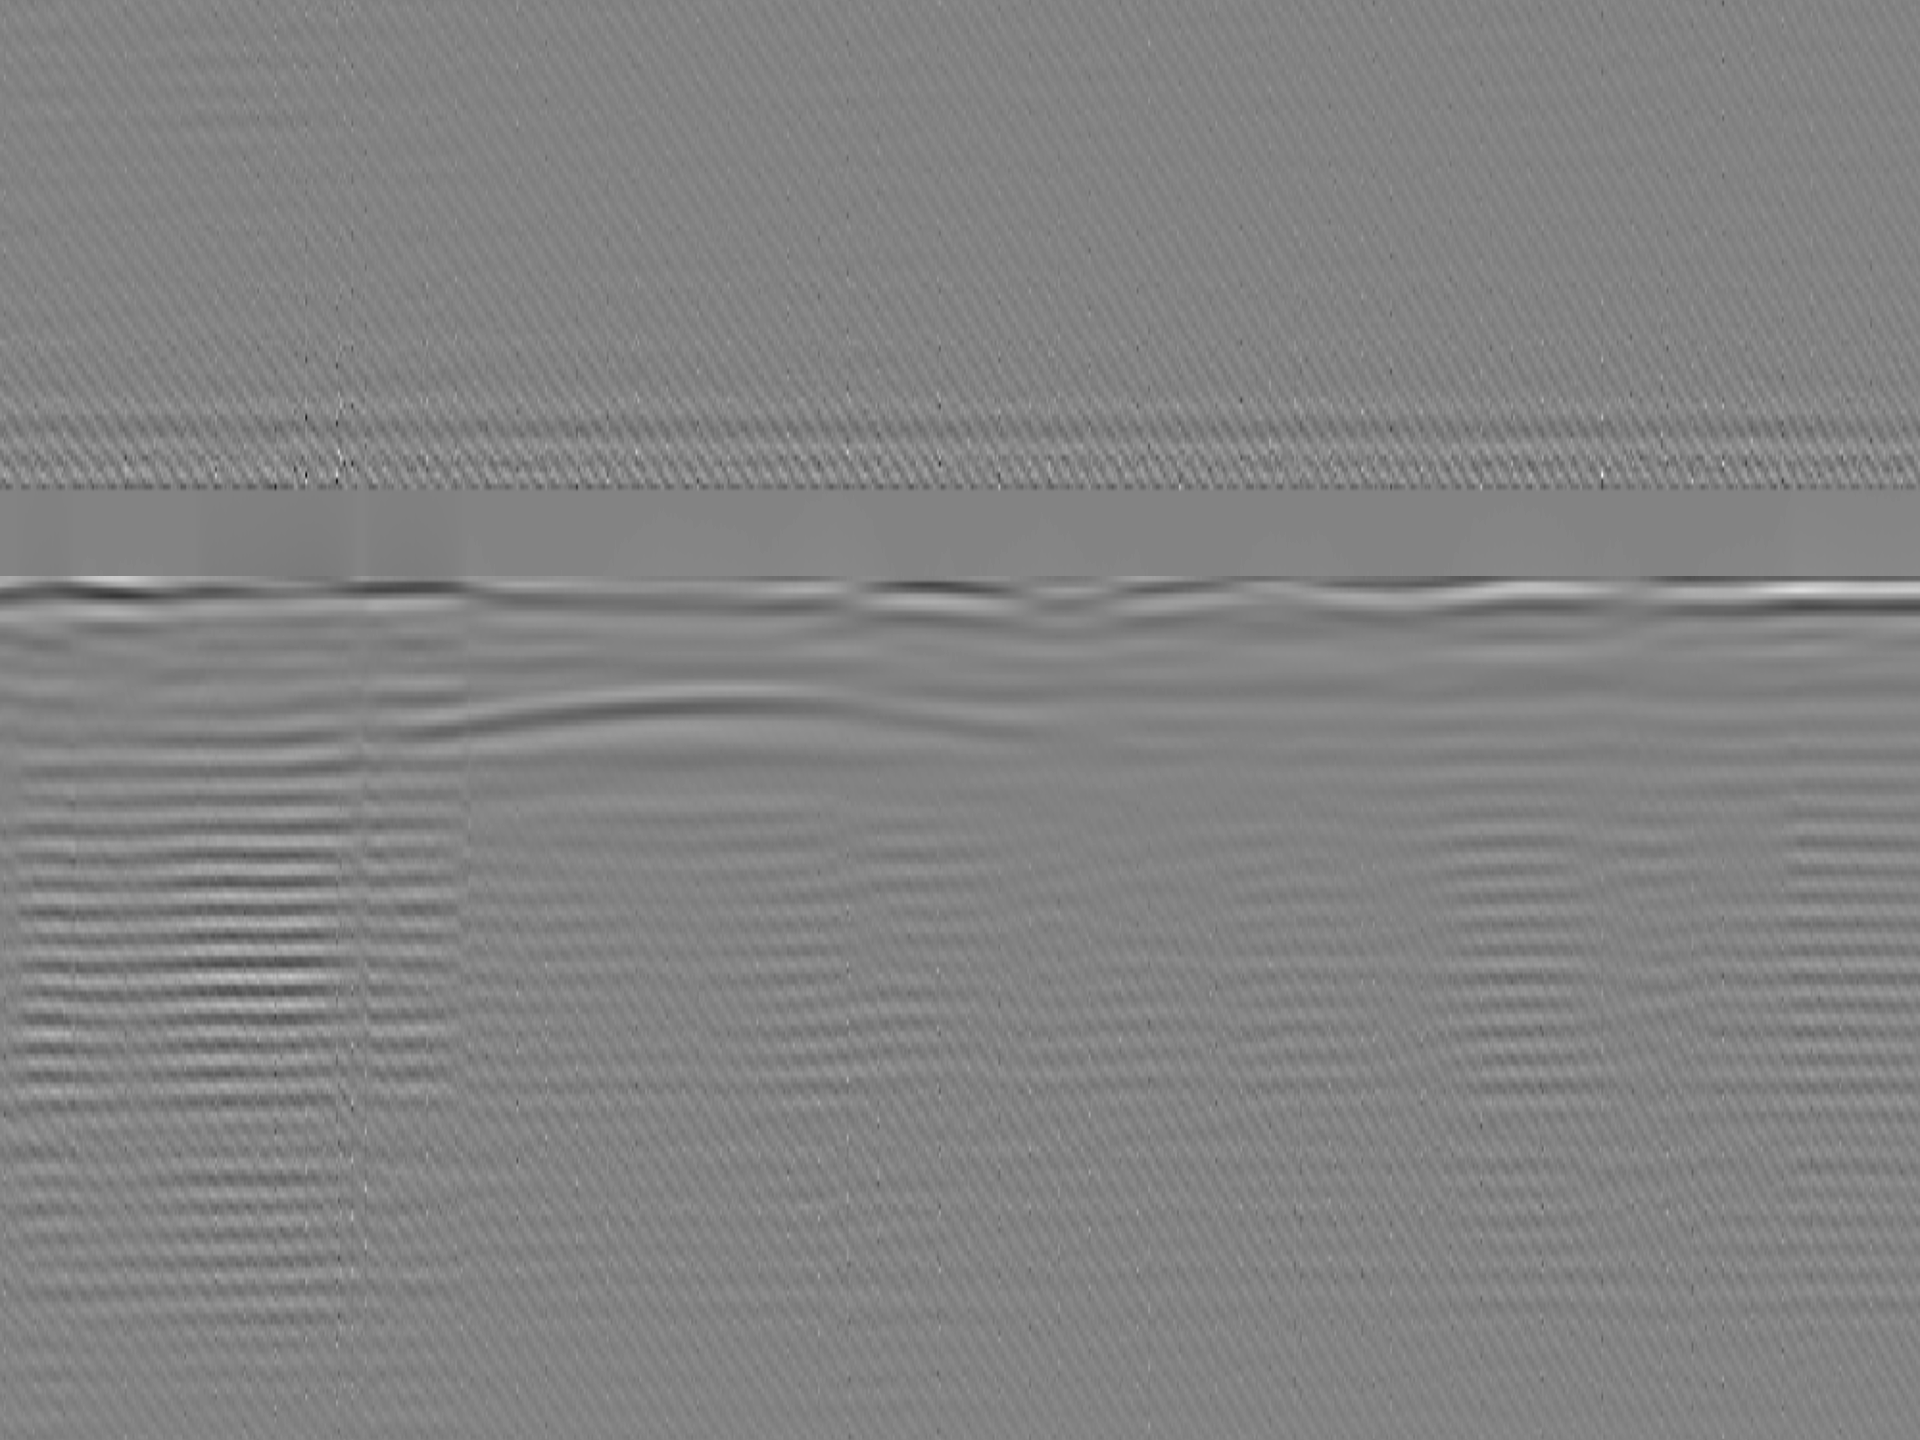Tunnel: (387, 251, 1096, 325)
